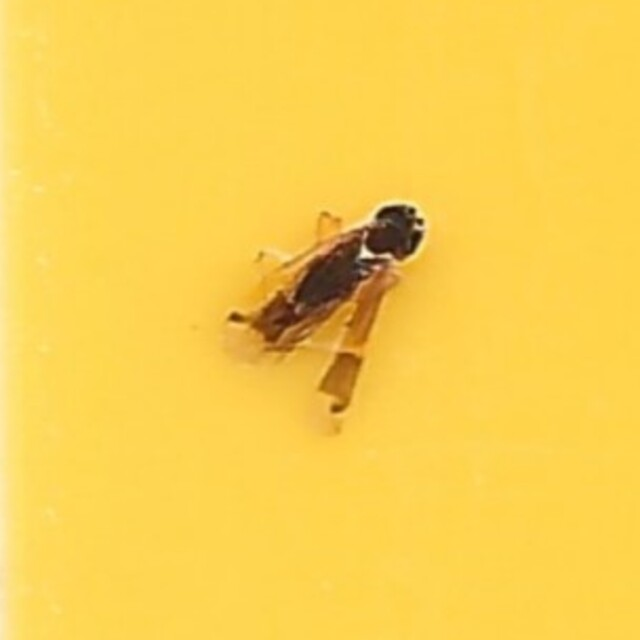Hemiptera: (211, 201, 429, 439)
